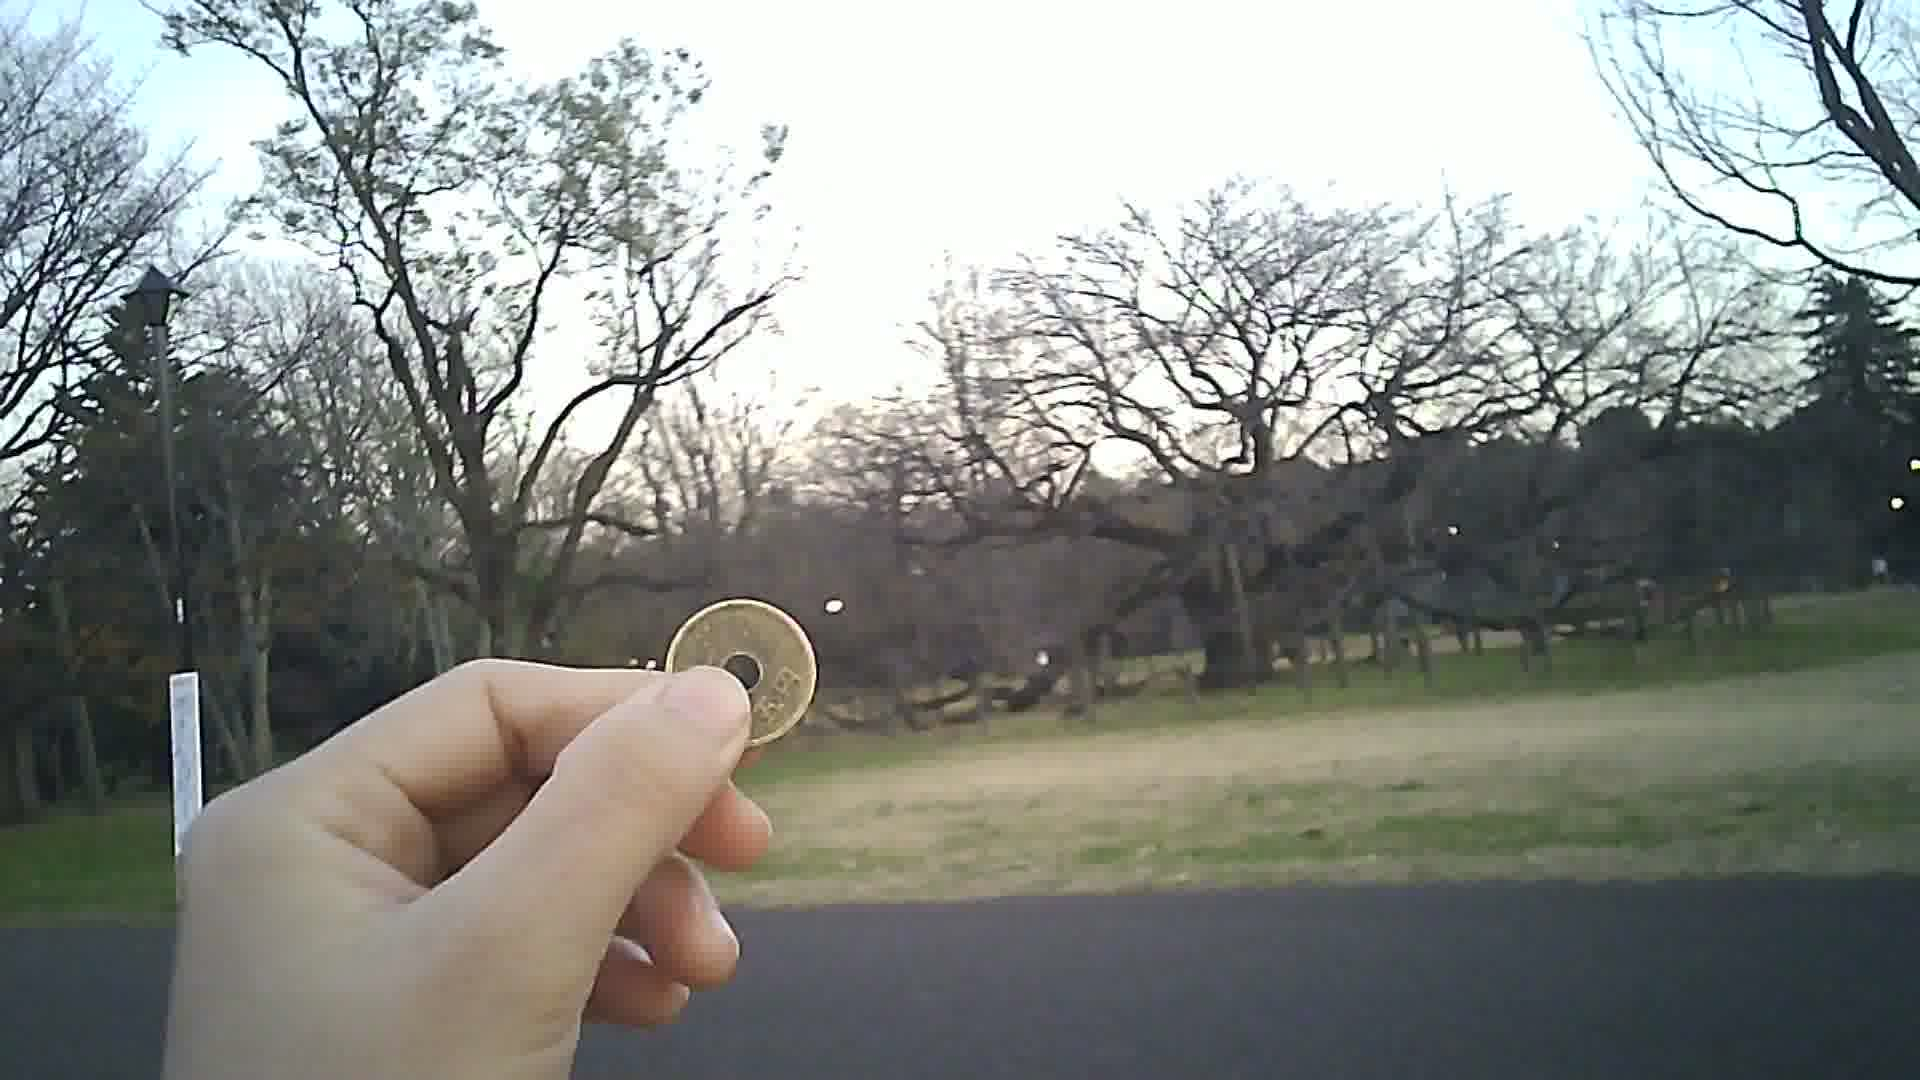5 Yen: (642, 597, 818, 762)
